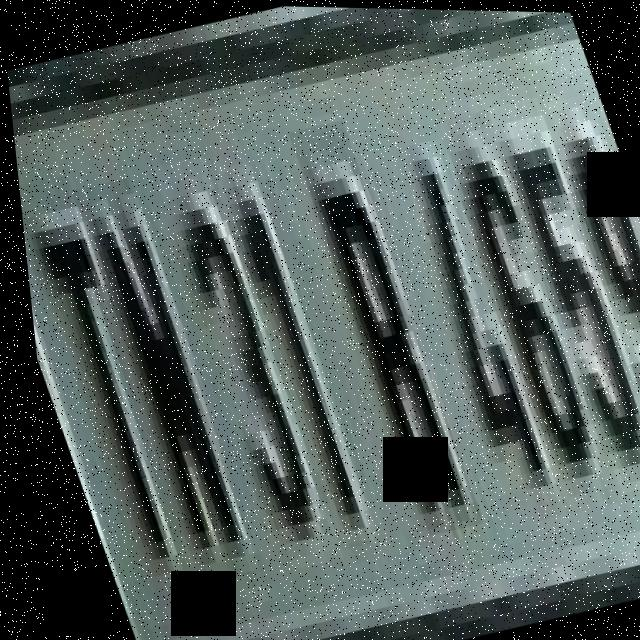1: (208, 160, 369, 544)
3: (147, 153, 334, 571)
4: (376, 129, 553, 501)
5: (484, 93, 640, 492)
6: (431, 105, 608, 497)
9: (542, 89, 640, 472)
N: (65, 175, 253, 583)
R: (284, 117, 473, 534)
T: (15, 184, 191, 580)
